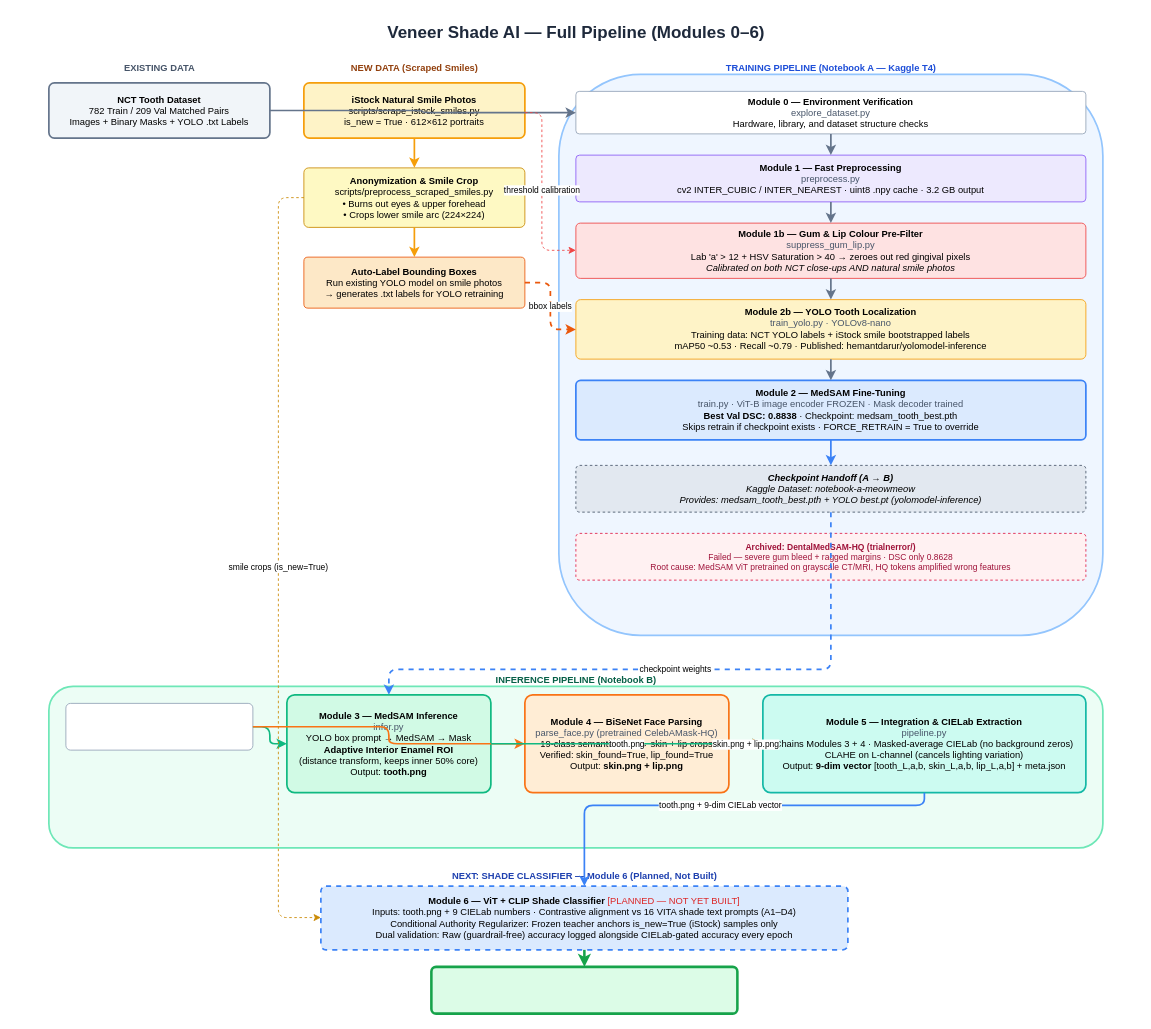
Image size: 1151x1029. Some labels were removed from this diagram. The shapes that lost their labels are listed below. From the top down, each one's box as (x1, y1, x2, y2) in pixels, then its label:
(65, 703, 253, 750): Patient Photo Input Full-face selfie or intraoral close-up
(430, 965, 738, 1014): Predicted VITA Dental Shade e.g. 'A2' — for veneer selection
